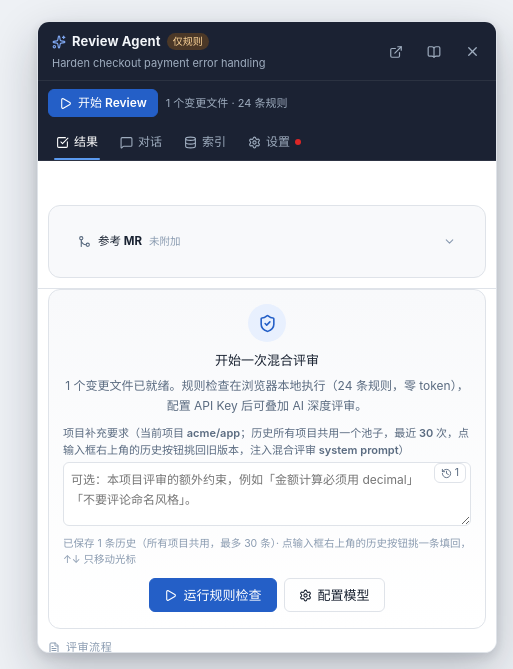
Test case: 起始页跨项目共用一个历史池 › 点别的项目的条目只把内容填进输入框，落盘的当前值仍归当前项目
Check: the text "开始一次混合评审" is shown, box [215,352,319,368]
Check: the button "开始 Review" is enabled, box [48,89,158,117]
Click the button named "项目补充要求历史": (450,473) [434,463,466,483]
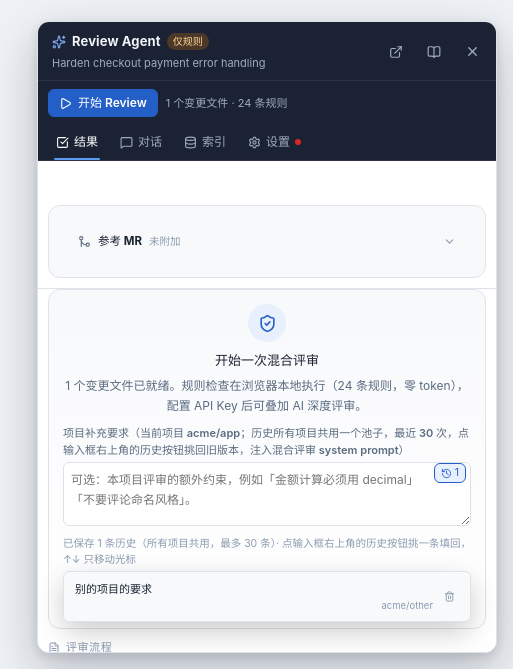
Click the option "别的项目的要求 acme/other": (114,589) [68,576,466,617]
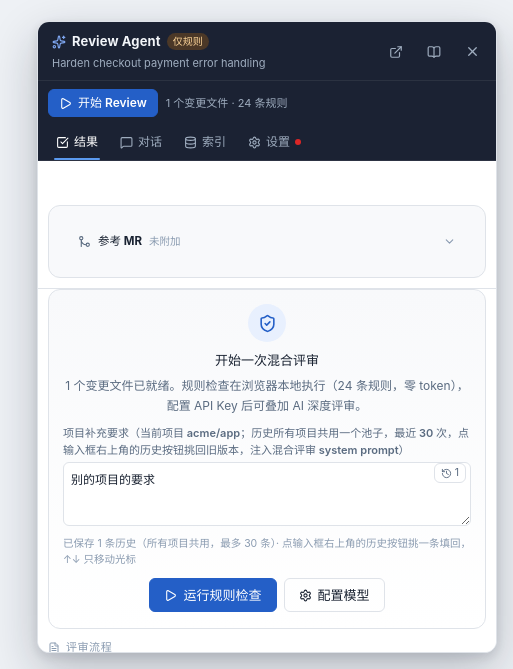
Check: the text box named "项目补充要求" holds "别的项目的要求", box [63,462,471,526]
